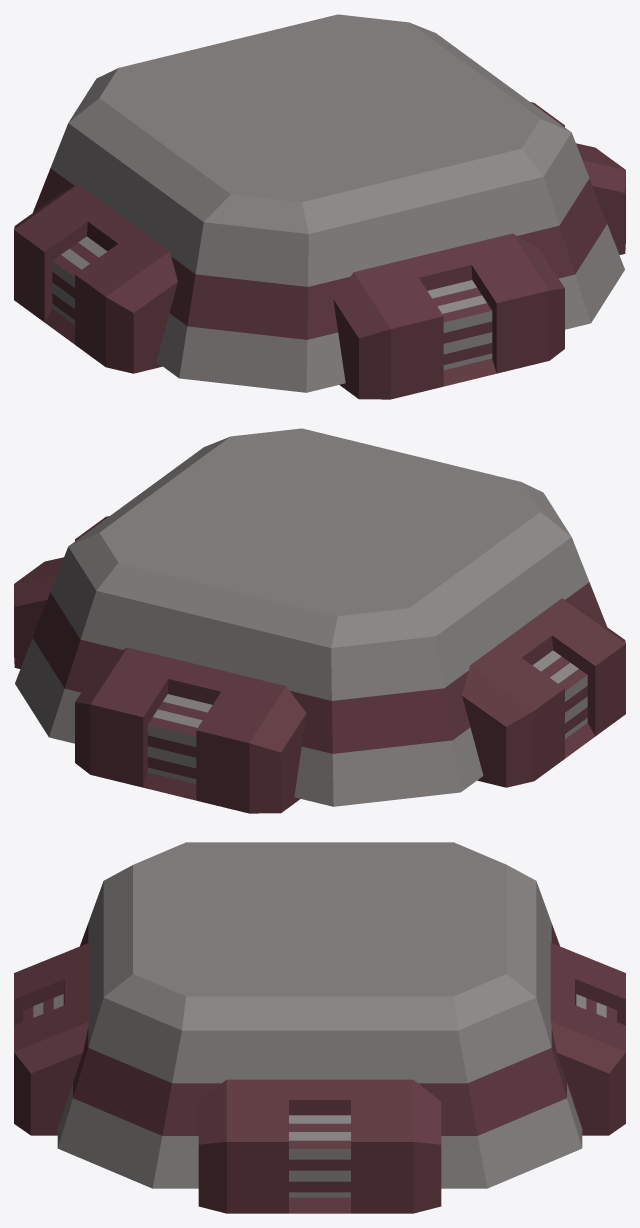
Rendered from scifi-turret-base-square-big.fbx.
3 views of the same model, one above another, from view 1: azimuth 30°, elevation 25°; view 2: azimuth 150°, elevation 25°; view 3: azimuth 270°, elevation 25° (orthographic).
Visible parts, largest first — view 1: scifi-turret-base-square-big; view 2: scifi-turret-base-square-big; view 3: scifi-turret-base-square-big.
Part boxes in pixels (x1,y1,x2,y2): scifi-turret-base-square-big: (14,14,625,399); scifi-turret-base-square-big: (14,428,625,813); scifi-turret-base-square-big: (14,842,625,1213).
Size of the model in its own units: 4.55 by 1.35 by 4.55.
